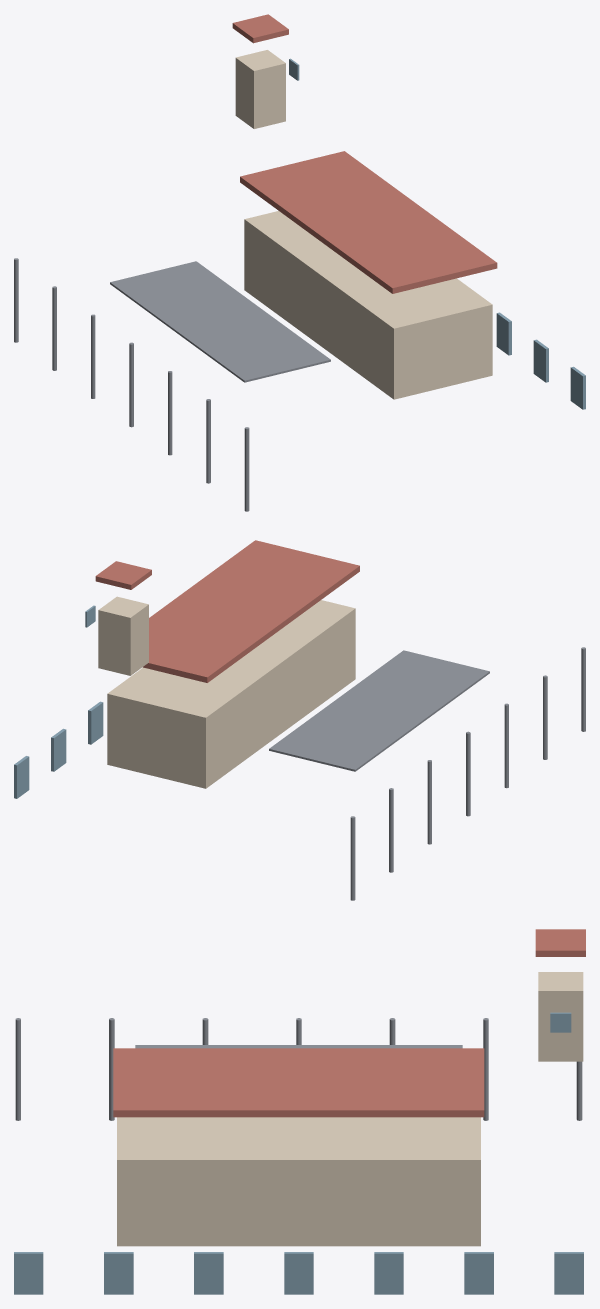
File: railway_station.glb
The picture shows the model from 3 angles, top to bottom: view 1: azimuth 30°, elevation 25°; view 2: azimuth 150°, elevation 25°; view 3: azimuth 270°, elevation 25°; orthographic projection. The views are drawn at different scales.
Parts seen in each view (by area): view 1: main, cornice, canopy, tower, tower_top; view 2: main, cornice, canopy, tower, tower_top, bay.004, bay.005, bay.006, cpost.006; view 3: main, cornice, tower, tower_top, canopy, bay, bay.001, bay.002, bay.003, bay.004, bay.005, bay.006 (+3 smaller).
Part boxes in pixels (x1=…): main: x1=244, y1=211, x2=492, y2=399; cornice: x1=240, y1=151, x2=497, y2=293; canopy: x1=110, y1=261, x2=330, y2=382; tower: x1=235, y1=50, x2=285, y2=128; tower_top: x1=232, y1=14, x2=288, y2=43; main: x1=107, y1=600, x2=355, y2=788; cornice: x1=143, y1=540, x2=359, y2=682; canopy: x1=269, y1=650, x2=489, y2=771; tower: x1=98, y1=596, x2=148, y2=675; tower_top: x1=95, y1=561, x2=151, y2=589; bay.004: x1=88, y1=701, x2=103, y2=744; bay.005: x1=51, y1=728, x2=66, y2=771; bay.006: x1=14, y1=756, x2=29, y2=798; cpost.006: x1=350, y1=816, x2=355, y2=900; main: x1=117, y1=1117, x2=480, y2=1246; cornice: x1=113, y1=1048, x2=484, y2=1117; tower: x1=538, y1=972, x2=583, y2=1061; tower_top: x1=535, y1=929, x2=585, y2=956; canopy: x1=135, y1=1045, x2=462, y2=1048; bay: x1=14, y1=1252, x2=43, y2=1294; bay.001: x1=104, y1=1252, x2=133, y2=1294; bay.002: x1=194, y1=1252, x2=223, y2=1294; bay.003: x1=284, y1=1252, x2=313, y2=1294; bay.004: x1=374, y1=1252, x2=403, y2=1294; bay.005: x1=464, y1=1252, x2=493, y2=1294; bay.006: x1=554, y1=1252, x2=583, y2=1294.
Bounding box in the file's own units: 27.49 × 20.4 × 33.02.
